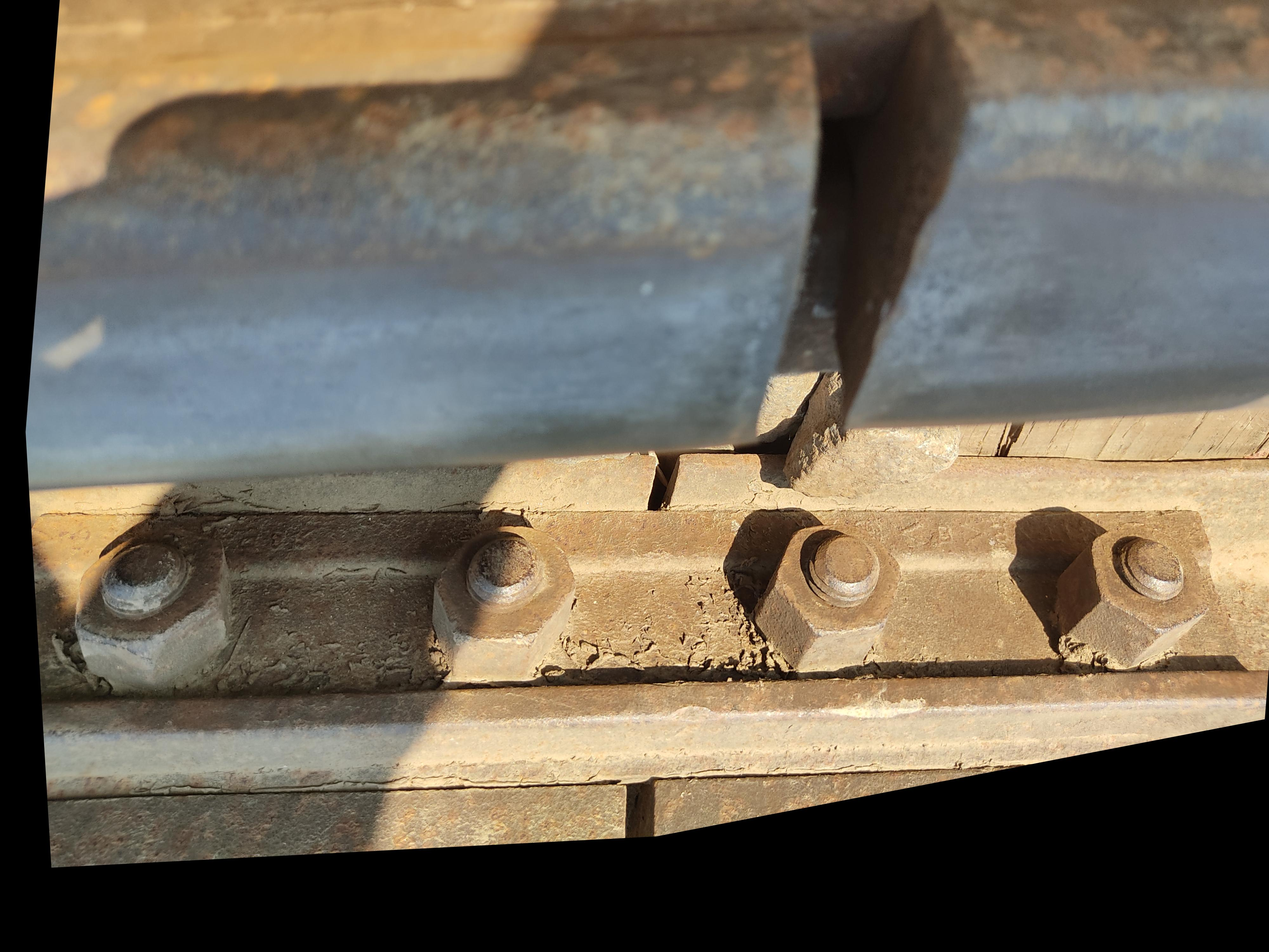person: (299, 396, 551, 694), (280, 823, 348, 873), (303, 661, 348, 705)
